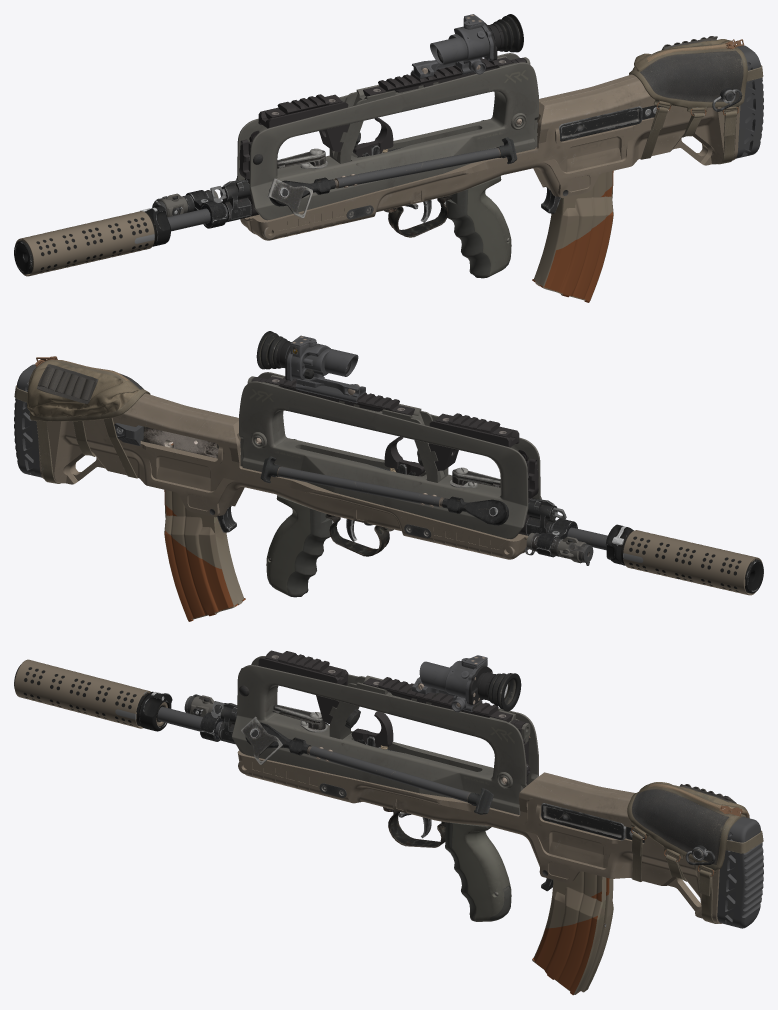
The model's file is Famas.fbx.
The picture shows the model from 3 angles, top to bottom: view 1: azimuth 30°, elevation 25°; view 2: azimuth 150°, elevation 25°; view 3: azimuth 330°, elevation 25°; orthographic projection.
Visible parts, largest first — view 1: Body 1, Body 4, Stock, Magazine, Silencer, Grip, Scope, Bipod 2, Body 7, Barrel, Body 6, Body 3 (+3 smaller); view 2: Body 1, Body 4, Stock, Magazine, Silencer, Grip, Scope, Bipod 1, Body 7, Barrel, Body 5, Laser (+3 smaller); view 3: Body 1, Body 4, Stock, Magazine, Silencer, Grip, Scope, Body 7, Bipod 2, Barrel, Body 6, Body 3 (+1 smaller).
Part boxes in pixels (left/top/right/bottom): Body 1: left=236, top=53, right=538, bottom=220; Body 4: left=240, top=74, right=740, bottom=240; Stock: left=629, top=36, right=763, bottom=164; Magazine: left=532, top=170, right=613, bottom=302; Silencer: left=14, top=205, right=170, bottom=276; Grip: left=384, top=176, right=511, bottom=278; Scope: left=410, top=14, right=523, bottom=78; Bipod 2: left=269, top=137, right=517, bottom=206; Body 7: left=736, top=45, right=763, bottom=158; Barrel: left=167, top=179, right=251, bottom=231; Body 6: left=371, top=87, right=742, bottom=222; Body 3: left=267, top=178, right=312, bottom=218; Body 1: left=239, top=372, right=541, bottom=539; Body 4: left=38, top=393, right=528, bottom=559; Stock: left=14, top=356, right=150, bottom=483; Magazine: left=164, top=444, right=245, bottom=621; Silencer: left=605, top=524, right=763, bottom=595; Grip: left=266, top=495, right=393, bottom=597; Scope: left=256, top=331, right=365, bottom=403; Bipod 1: left=260, top=456, right=508, bottom=525; Body 7: left=14, top=364, right=41, bottom=477; Barrel: left=526, top=498, right=607, bottom=550; Body 5: left=141, top=426, right=218, bottom=458; Laser: left=525, top=532, right=593, bottom=565; Body 1: left=232, top=650, right=538, bottom=814; Body 4: left=237, top=738, right=721, bottom=923; Stock: left=627, top=782, right=763, bottom=923; Magazine: left=532, top=871, right=613, bottom=995; Silencer: left=14, top=659, right=172, bottom=731; Grip: left=383, top=807, right=511, bottom=921; Scope: left=412, top=655, right=521, bottom=712; Body 7: left=717, top=816, right=763, bottom=928; Bipod 2: left=245, top=722, right=493, bottom=814; Barrel: left=157, top=701, right=237, bottom=744; Body 6: left=367, top=736, right=715, bottom=891; Body 3: left=241, top=716, right=282, bottom=764.
Bounding box in the file's own units: 10033 × 3960 × 1065.
